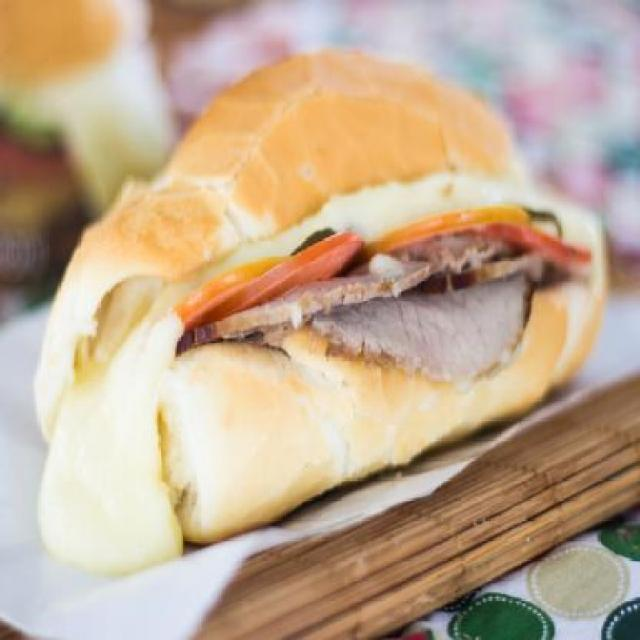Bread: (48, 74, 576, 530)
